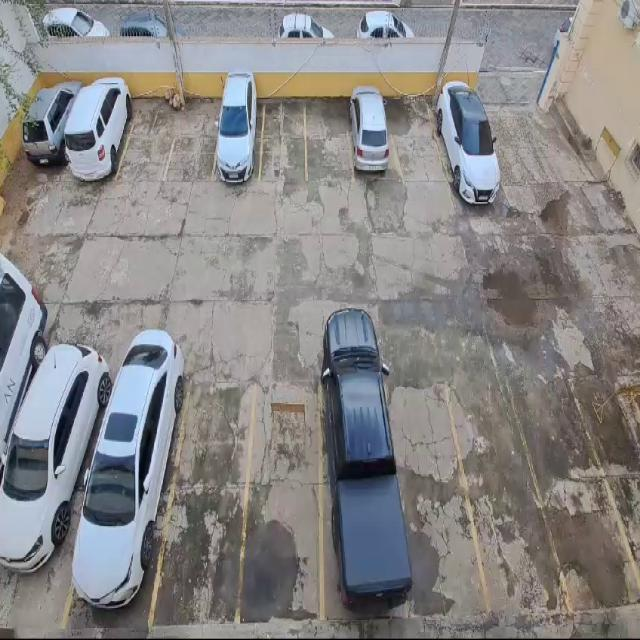empty: (509, 382, 639, 605), (449, 378, 570, 612), (386, 378, 491, 616), (151, 387, 254, 624), (238, 391, 322, 623), (385, 102, 448, 178), (117, 108, 180, 181), (164, 103, 221, 181), (260, 102, 307, 178), (304, 103, 352, 177)
notEmpty: (66, 370, 191, 629), (0, 356, 122, 621), (322, 379, 404, 617), (15, 82, 91, 174), (429, 84, 500, 181), (66, 90, 137, 178), (347, 96, 401, 179), (216, 95, 266, 178)
